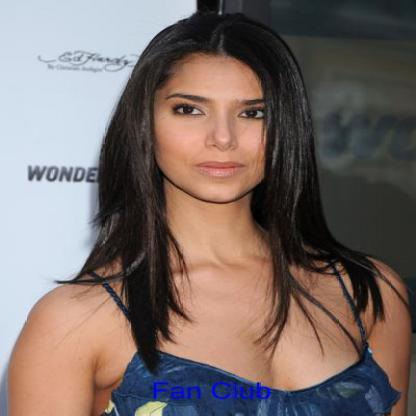long-hair: (86, 202, 340, 262)
